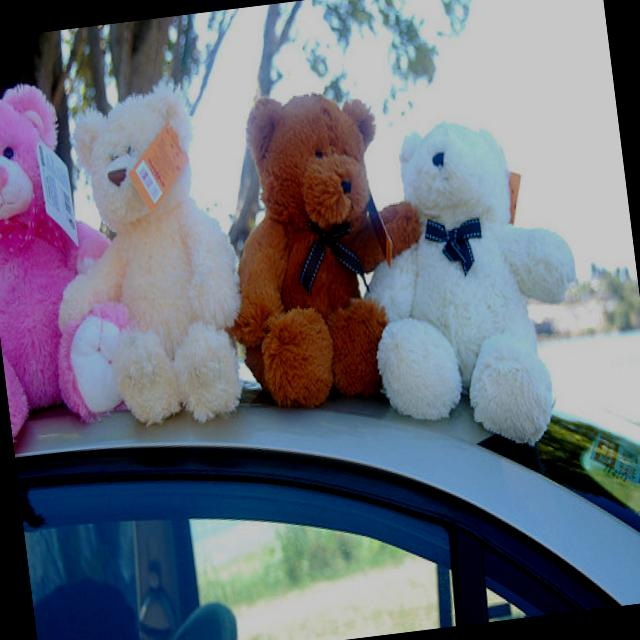Vehicle: (8, 327, 640, 640)
